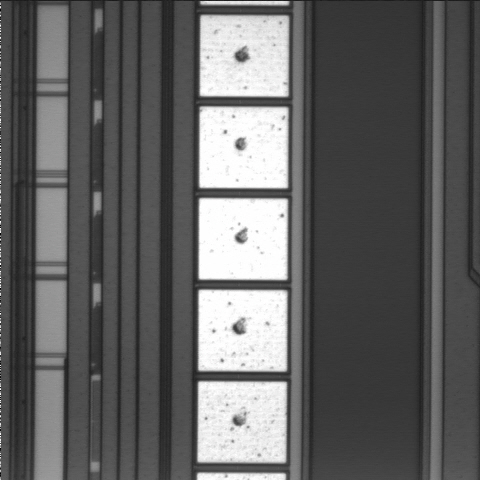pad: (200, 15, 289, 97), (199, 198, 288, 280), (198, 381, 287, 463), (199, 107, 288, 188), (198, 290, 287, 371)
